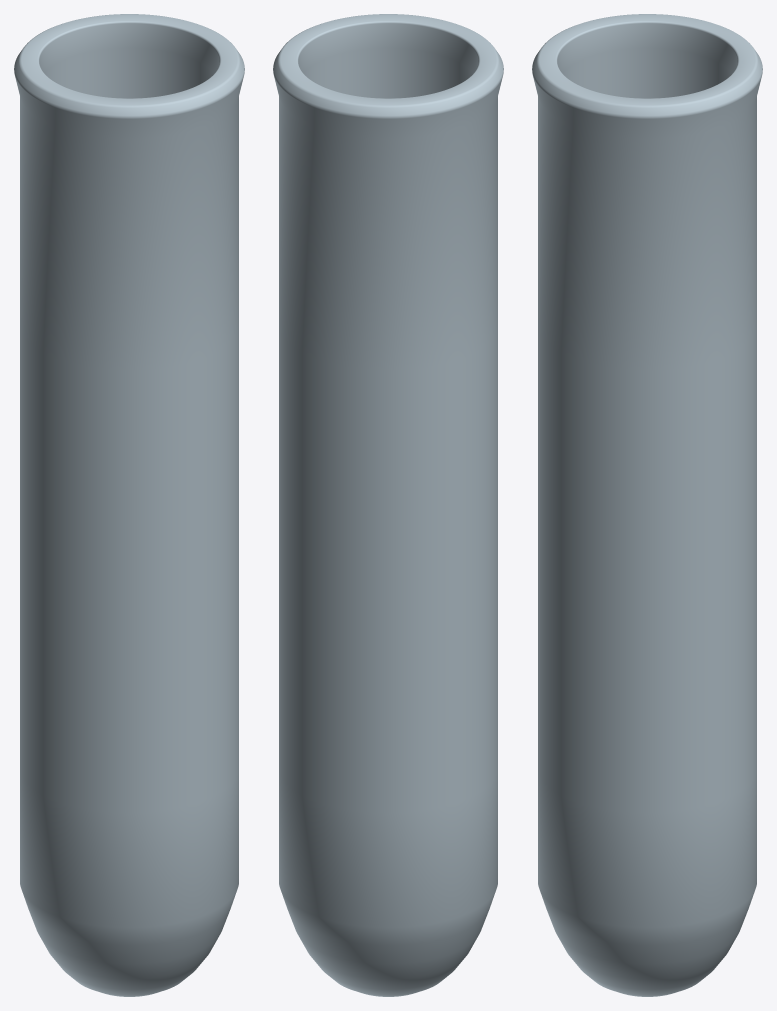
The model's file is tabungreaksilurus.fbx.
The picture shows the model from 3 angles, left to right: view 1: azimuth 30°, elevation 25°; view 2: azimuth 150°, elevation 25°; view 3: azimuth 270°, elevation 25°; orthographic projection.
Parts seen in each view (by area): view 1: TABUNG REAKSI KACA BENING; view 2: TABUNG REAKSI KACA BENING; view 3: TABUNG REAKSI KACA BENING.
Boxes of the visible parts, box(x1,y1,x2,y2) form: TABUNG REAKSI KACA BENING: box(14, 14, 244, 996); TABUNG REAKSI KACA BENING: box(273, 14, 503, 996); TABUNG REAKSI KACA BENING: box(532, 14, 762, 996).
Bounding box in the file's own units: 94.71 × 420 × 94.71.
